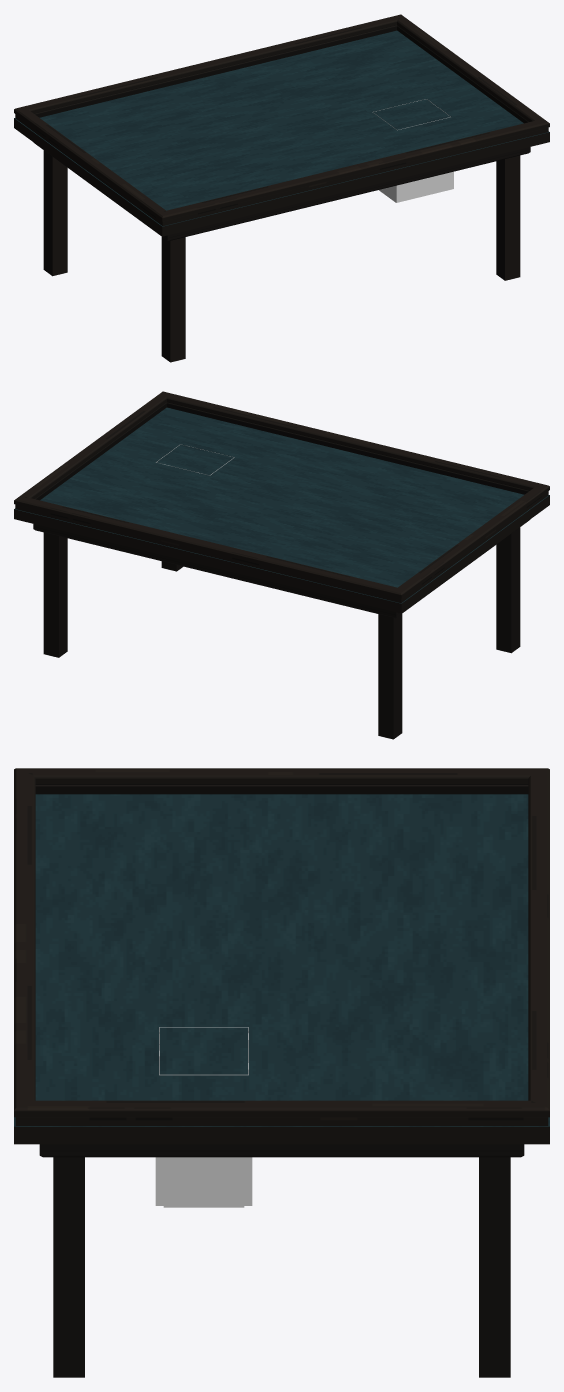
Rendered from T3_TableHatch_Assembly.fbx.
3 views of the same model, one above another, from view 1: azimuth 30°, elevation 25°; view 2: azimuth 150°, elevation 25°; view 3: azimuth 270°, elevation 25° (orthographic). The views are drawn at different scales.
Visible parts, largest first — view 1: T3_Tabletop_WithHatchHole, T3_Rim_UpperCap, T3_Rim_LowerReceiver, T3_Leg_FrontLeft, T3_Leg_FrontRight, T3_Leg_BackLeft, T3_LowerFrame, Hatch_FeltFlap, T3_SideBody, Hatch_Receiver_Y_L; view 2: T3_Tabletop_WithHatchHole, T3_Rim_UpperCap, T3_Rim_LowerReceiver, T3_Leg_BackLeft, T3_Leg_BackRight, T3_Leg_FrontLeft, T3_LowerFrame, Hatch_FeltFlap, T3_SideBody; view 3: T3_Tabletop_WithHatchHole, T3_Rim_UpperCap, T3_Rim_LowerReceiver, T3_Leg_BackRight, T3_Leg_FrontRight, Hatch_Receiver_X_R, Hatch_FeltFlap, T3_SideBody, T3_LowerFrame.
Part boxes in pixels (x1,y1,x2,y2): T3_Tabletop_WithHatchHole: (14, 30, 549, 236); T3_Rim_UpperCap: (14, 14, 549, 221); T3_Rim_LowerReceiver: (15, 25, 548, 225); T3_Leg_FrontLeft: (161, 237, 185, 362); T3_Leg_FrontRight: (496, 155, 520, 280); T3_Leg_BackLeft: (43, 150, 67, 276); T3_LowerFrame: (34, 143, 530, 241); Hatch_FeltFlap: (373, 99, 450, 130); T3_SideBody: (165, 147, 530, 238); Hatch_Receiver_Y_L: (398, 172, 452, 202); T3_Tabletop_WithHatchHole: (14, 407, 549, 613); T3_Rim_UpperCap: (14, 391, 549, 598); T3_Rim_LowerReceiver: (15, 402, 548, 602); T3_Leg_BackLeft: (378, 614, 402, 739); T3_Leg_BackRight: (43, 532, 67, 657); T3_Leg_FrontLeft: (496, 527, 520, 653); T3_LowerFrame: (33, 520, 529, 618); Hatch_FeltFlap: (156, 444, 234, 475); T3_SideBody: (33, 524, 398, 615); T3_Tabletop_WithHatchHole: (14, 794, 549, 1144); T3_Rim_UpperCap: (14, 768, 549, 1117); T3_Rim_LowerReceiver: (15, 785, 548, 1125); T3_Leg_BackRight: (479, 1157, 510, 1377); T3_Leg_FrontRight: (53, 1157, 84, 1377); Hatch_Receiver_X_R: (155, 1157, 252, 1205); Hatch_FeltFlap: (159, 1027, 248, 1075); T3_SideBody: (39, 1144, 524, 1151); T3_LowerFrame: (39, 1151, 524, 1157).
Bounding box in the file's own units: 9.84 × 3.84 × 6.53.
